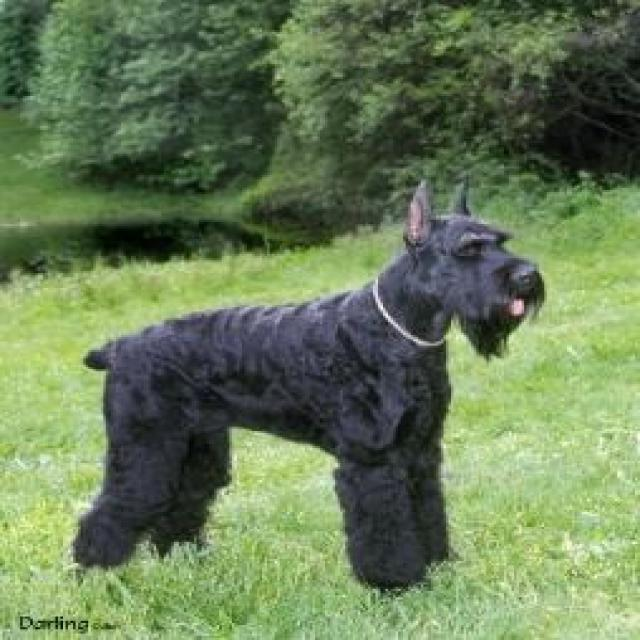standard_schnauzer: (66, 175, 542, 580)
